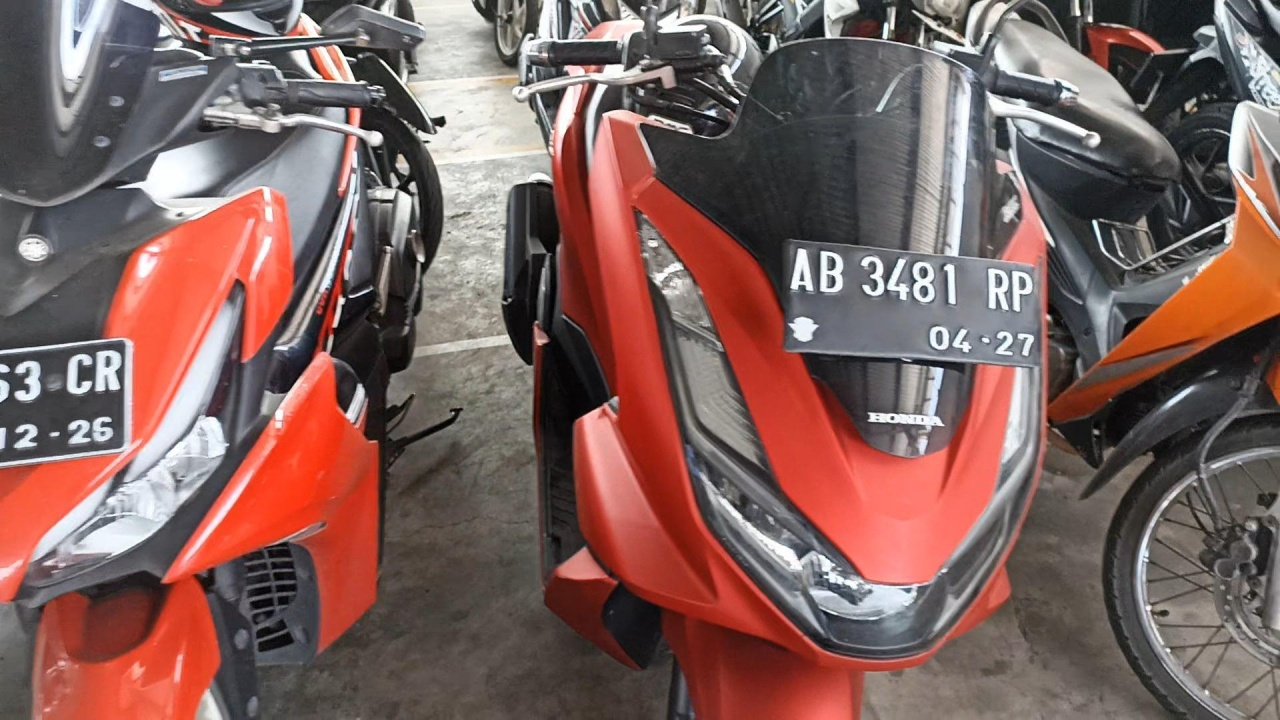plate: (785, 241, 1042, 368)
